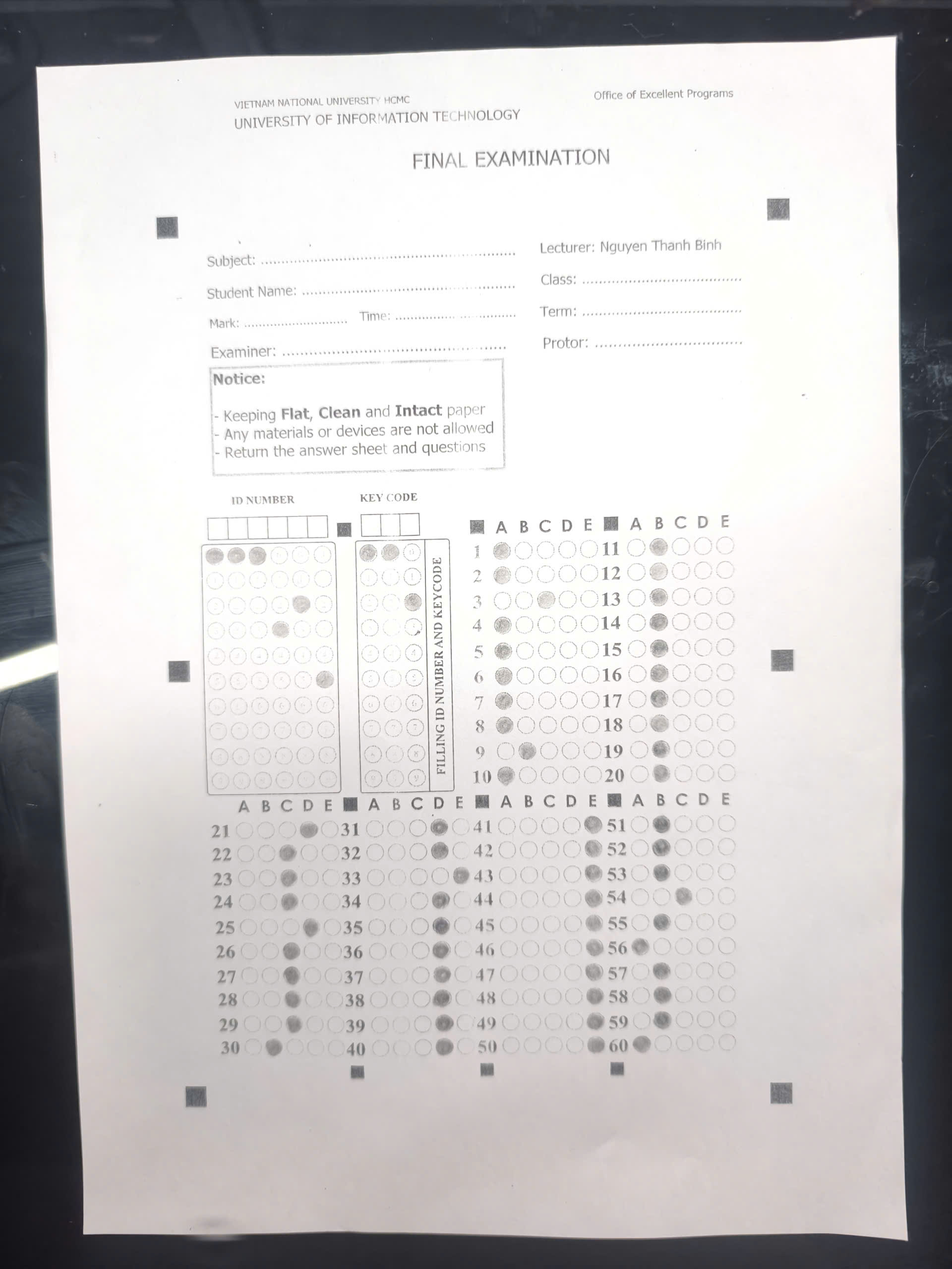info_region: (203, 541, 429, 793)
paper_region: (166, 221, 785, 1099)
q_1_20: (476, 523, 742, 800)
q_21_60: (203, 802, 740, 1071)
